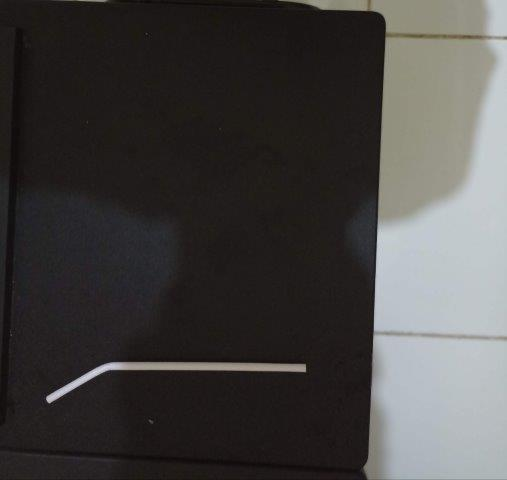sedotan: (46, 362, 306, 404)
